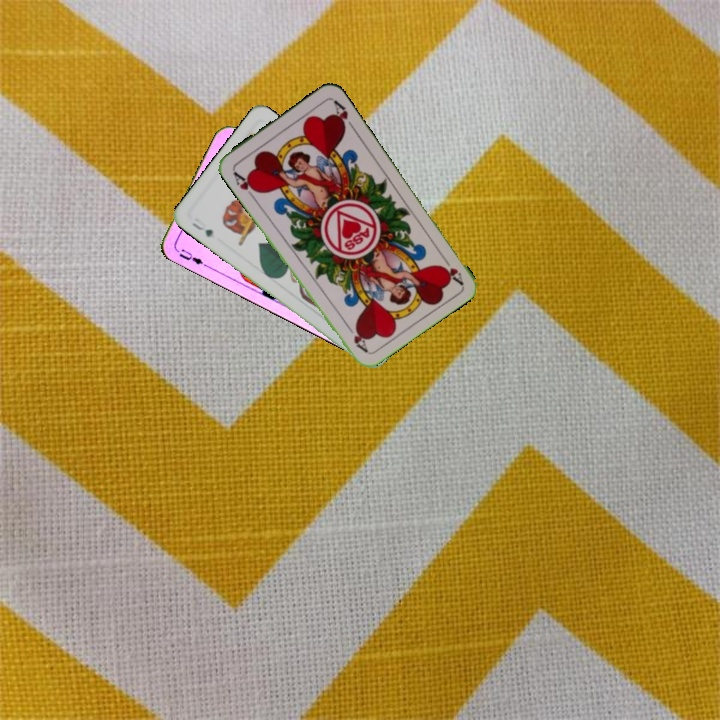EU: (175, 245, 210, 271)
GU: (188, 219, 216, 240)
HA: (228, 166, 260, 202), (436, 250, 465, 286)
